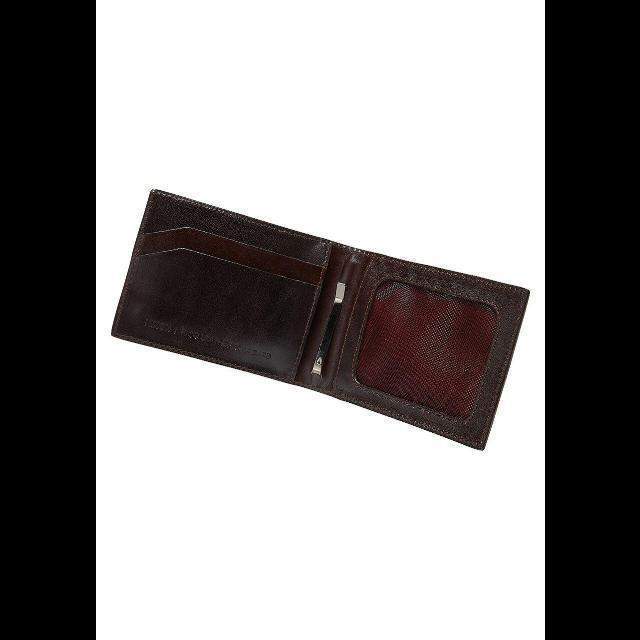Wallet: (102, 179, 532, 451)
